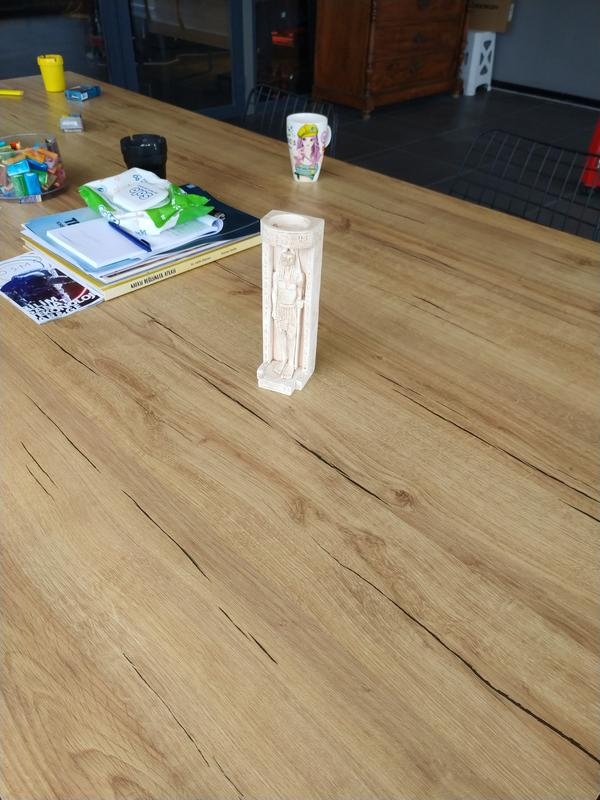heykel: (251, 203, 328, 400)
